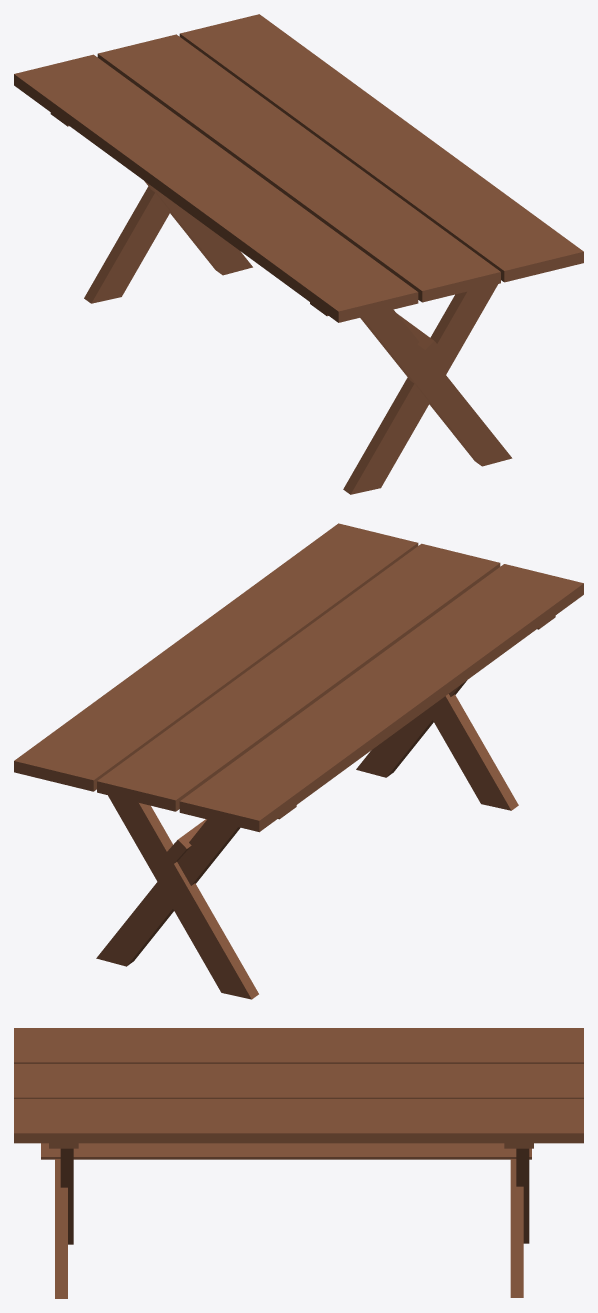
File: table.glb
3 views of the same model, one above another, from view 1: azimuth 30°, elevation 25°; view 2: azimuth 150°, elevation 25°; view 3: azimuth 270°, elevation 25° (orthographic). The views are drawn at different scales.
Visible parts, largest first — view 1: Cube; view 2: Cube; view 3: Cube.
Part boxes in pixels (left/top/right/bottom): Cube: left=14, top=14, right=583, bottom=494; Cube: left=14, top=523, right=583, bottom=999; Cube: left=14, top=1028, right=583, bottom=1298.
Size of the model in its own units: 2.85 by 2.36 by 6.53.
